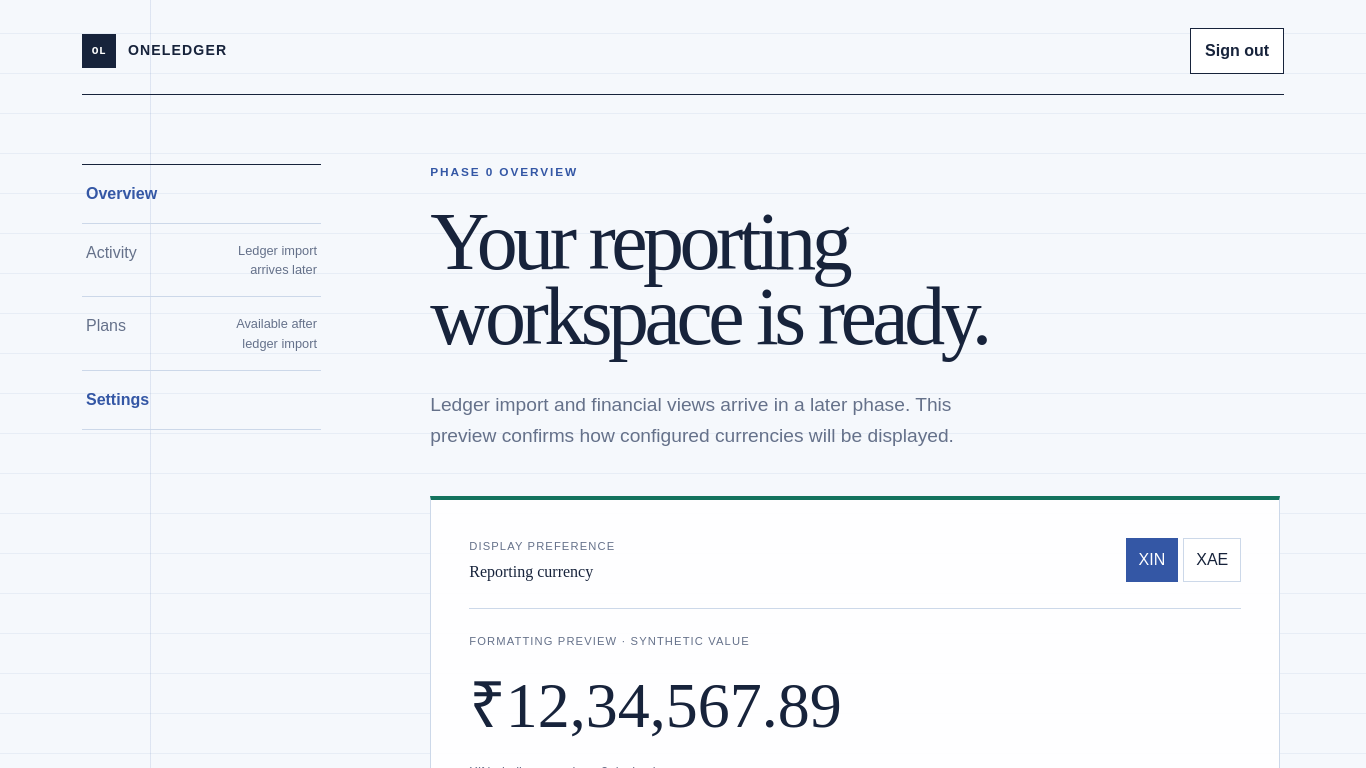
Test: authenticated workspace › keeps the owner view on transient logout failure and clears it after retry succeeds
Expected: the text "₹12,34,567.89" is shown, x1=469 y1=670 x2=842 y2=741
Click the button "Sign out".
click(1237, 51)  # box x1=1190 y1=28 x2=1284 y2=74
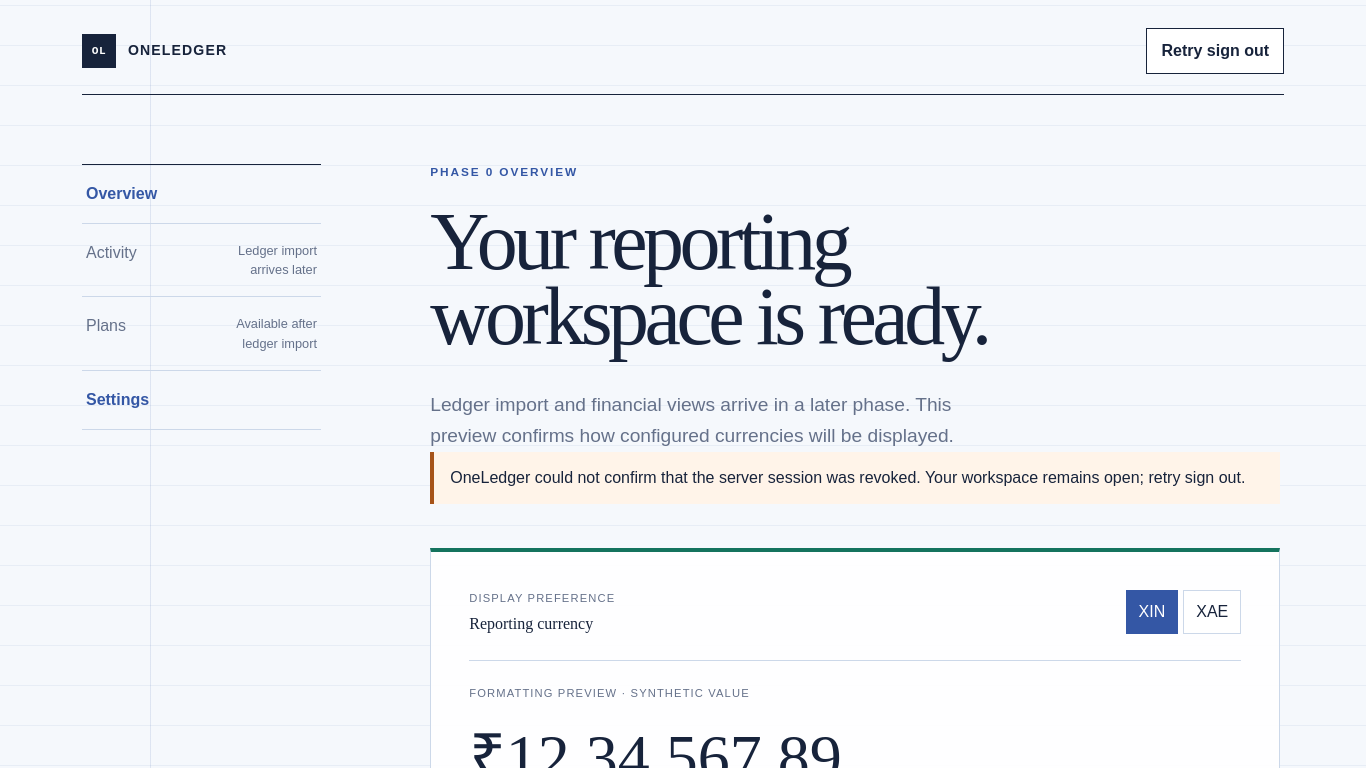
Now the message shows "could not confirm", box x1=450 y1=469 x2=1245 y2=486
Click the button "Retry sign out".
click(1215, 51)  # box x1=1146 y1=28 x2=1284 y2=74
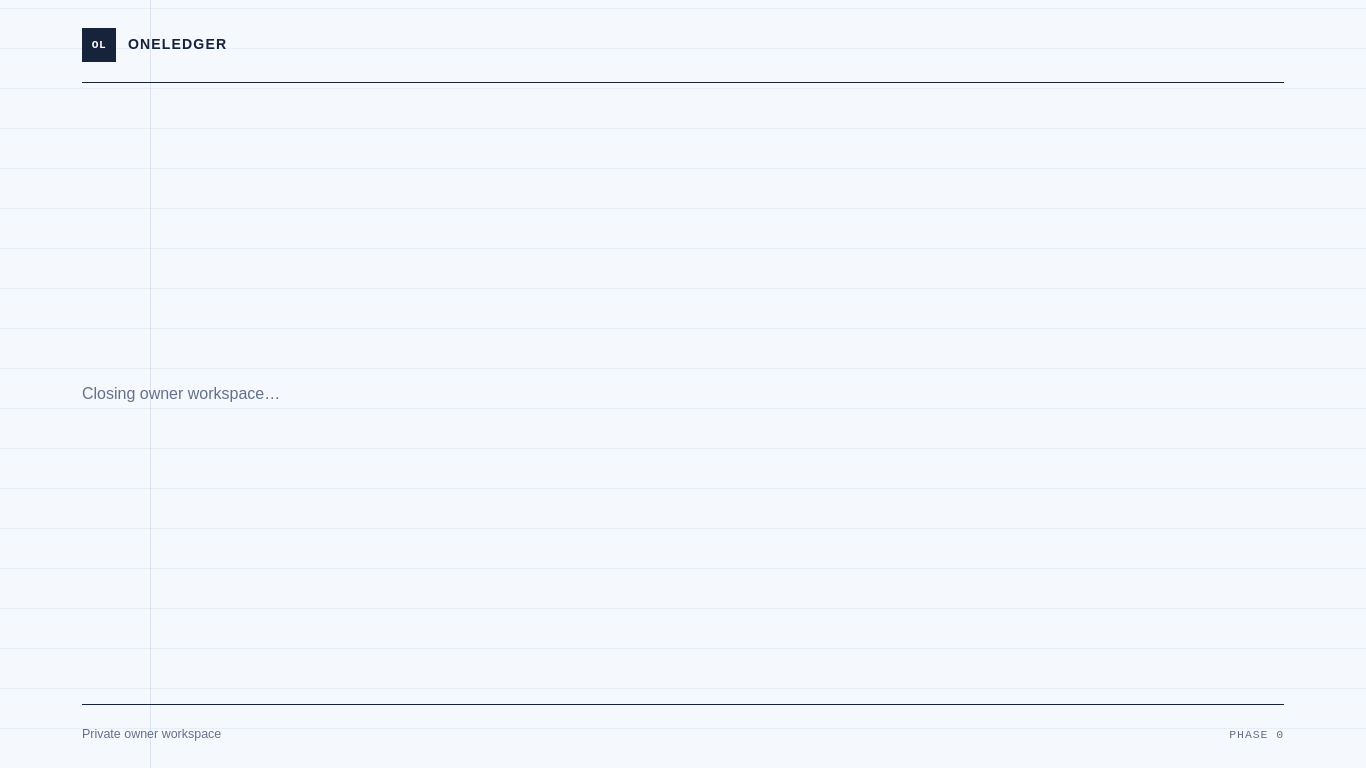
Now the button "sign out" is gone
